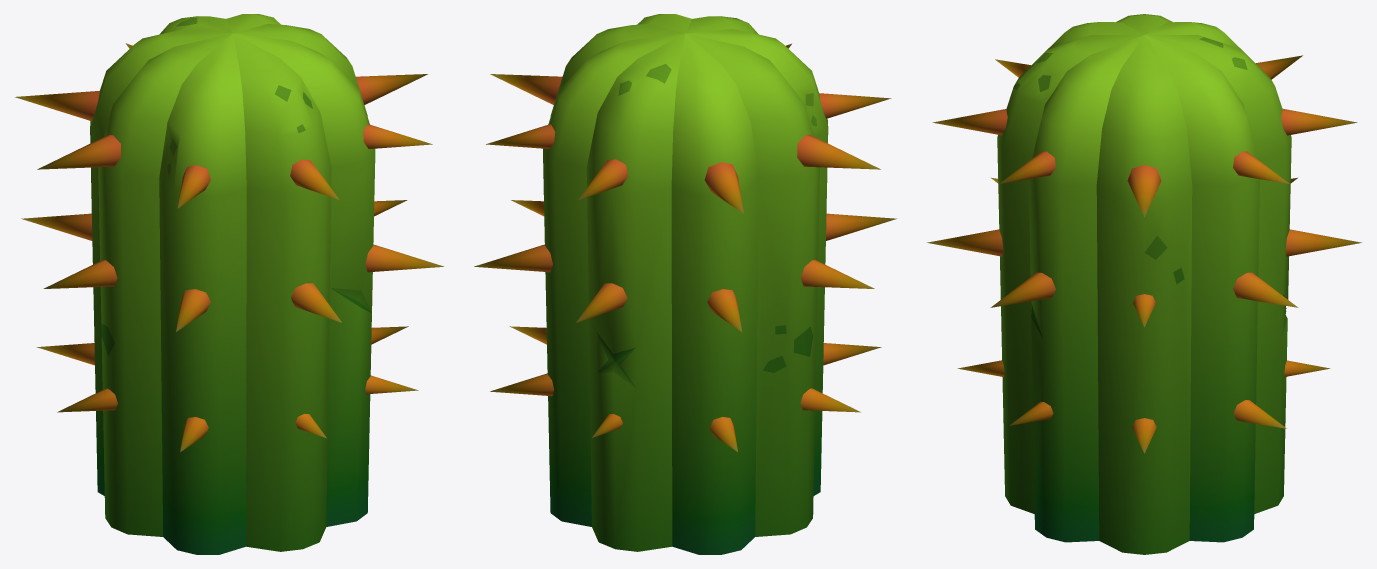
File: cactus4.glb
3 renders of one model, left to right at view 1: azimuth 30°, elevation 25°; view 2: azimuth 150°, elevation 25°; view 3: azimuth 270°, elevation 25°, orthographic.
Parts seen in each view (by area): view 1: cactus4; view 2: cactus4; view 3: cactus4.
Part boxes in pixels (<box>): cactus4: <box>15,14,443,554</box>; cactus4: <box>474,14,896,554</box>; cactus4: <box>927,14,1361,554</box>.
Bounding box in the file's own units: 1.92 × 2.17 × 1.86.
Materials: 1 (1 with a texture image).
